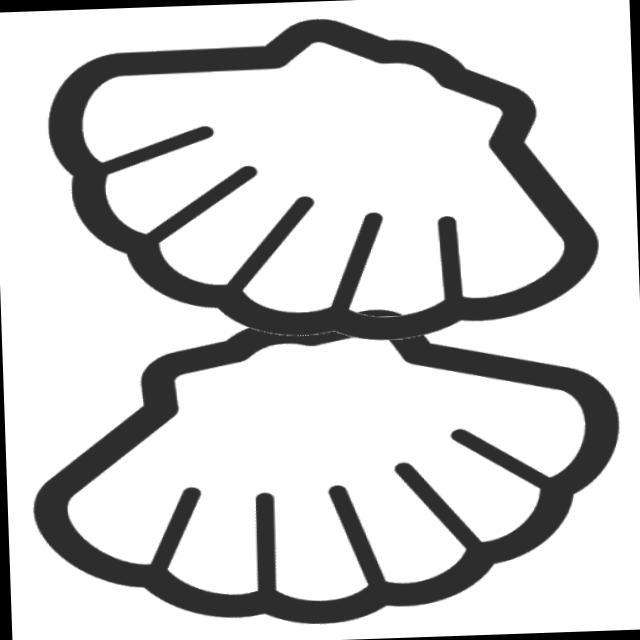shell: (11, 293, 640, 640), (36, 1, 609, 362)
